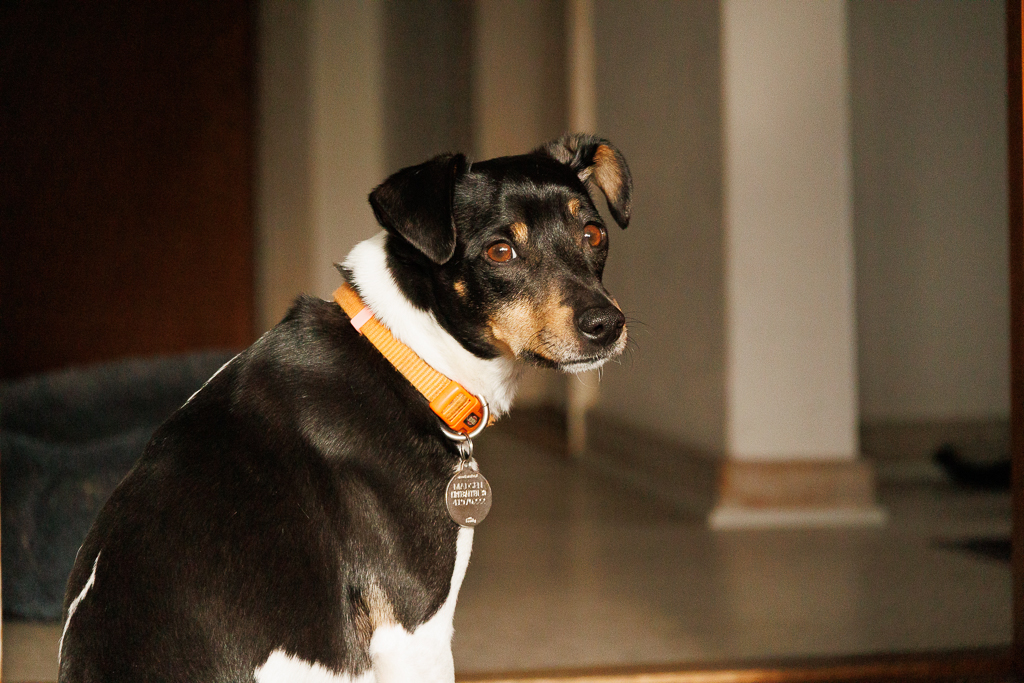Dog: (47, 125, 647, 683)
